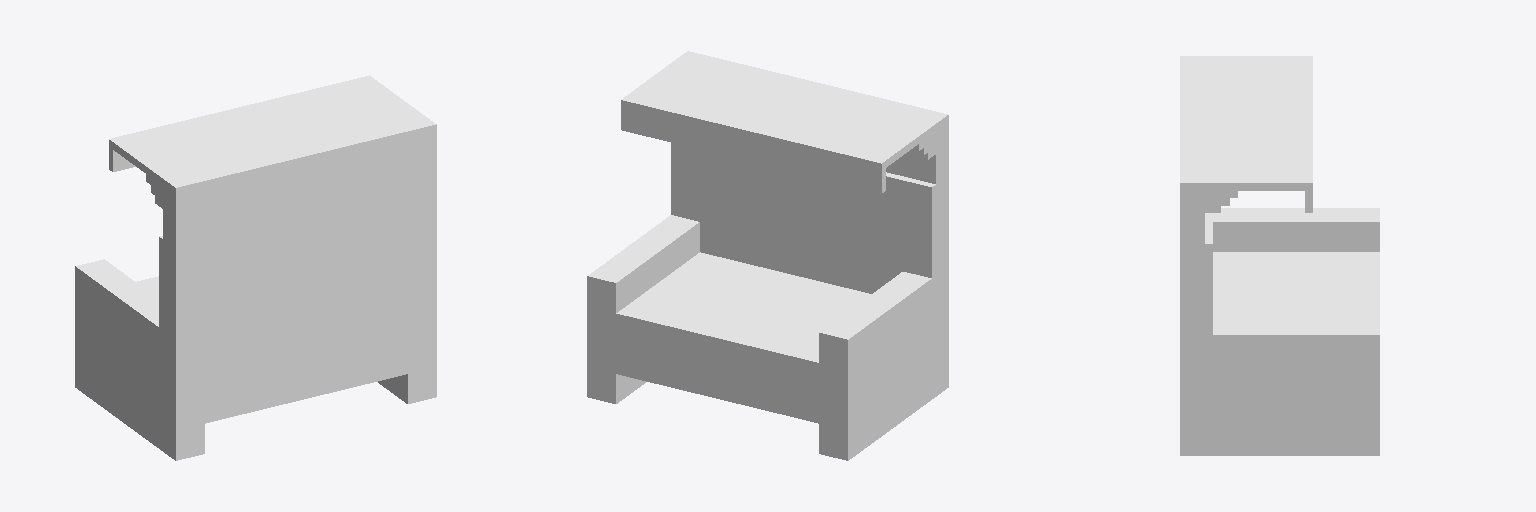
Rendered from Rikscha.obj.
The picture shows the model from 3 angles: view 1: azimuth 30°, elevation 25°; view 2: azimuth 150°, elevation 25°; view 3: azimuth 270°, elevation 25°; orthographic projection.
Bounding box in the file's own units: 36 × 36 × 24.